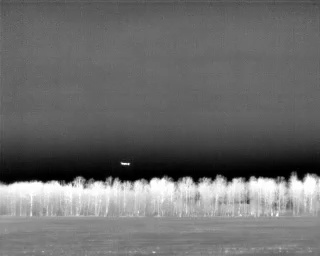DRONE: (117, 157, 134, 170)
